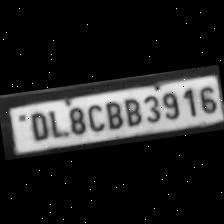1: (177, 85, 200, 118)
3: (140, 91, 162, 124)
6: (195, 80, 220, 115)
8: (64, 102, 88, 136)
9: (158, 87, 182, 121)
B: (119, 94, 143, 127), (102, 97, 124, 130)
C: (84, 100, 106, 133)
D: (24, 107, 50, 141)
L: (45, 105, 67, 138)
